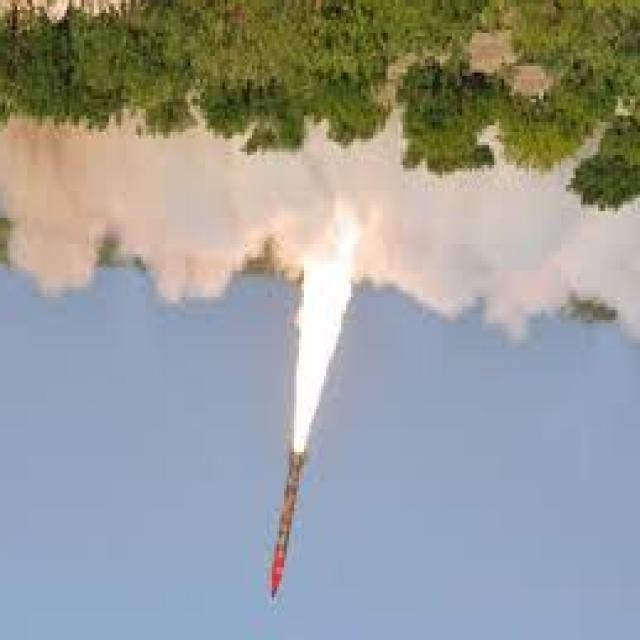missile: (265, 442, 300, 602)
